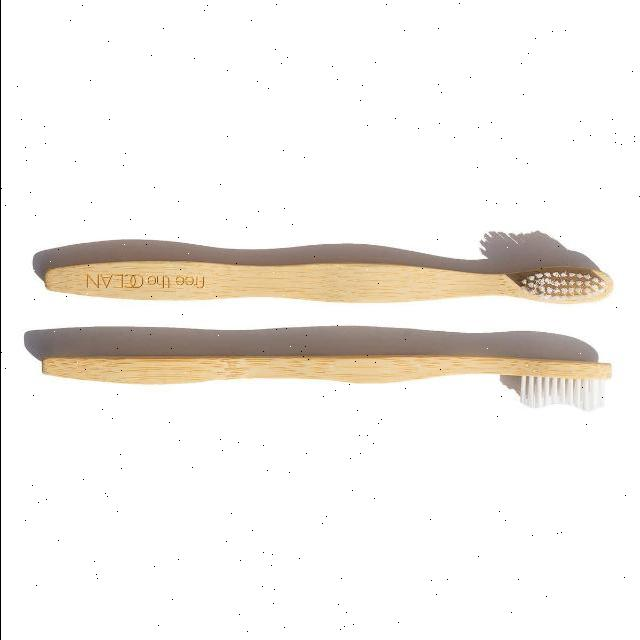toothbrush: (18, 314, 640, 428)
